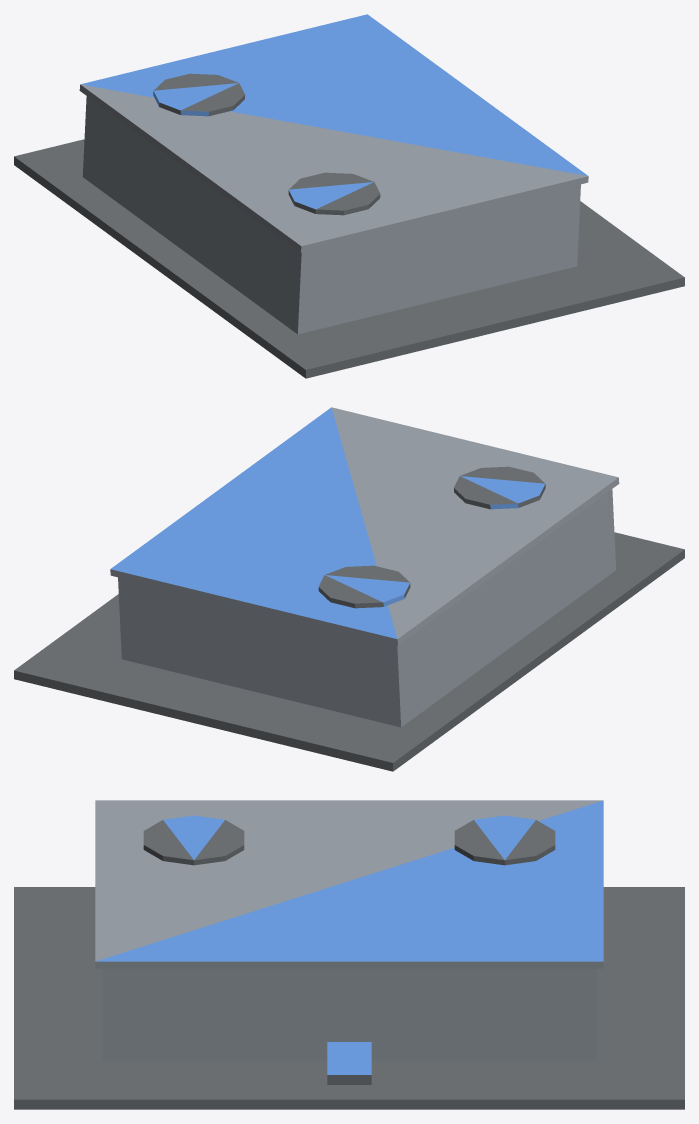
The model's file is veyran_refinery_heavily_damaged.glb.
The picture shows the model from 3 angles, top to bottom: view 1: azimuth 30°, elevation 25°; view 2: azimuth 150°, elevation 25°; view 3: azimuth 270°, elevation 25°; orthographic projection. The views are drawn at different scales.
Visible parts, largest first — view 1: hull; view 2: hull; view 3: hull, belt.
Part boxes in pixels (x1=…): hull: x1=14, y1=14, x2=684, y2=378; hull: x1=14, y1=407, x2=684, y2=771; hull: x1=14, y1=800, x2=684, y2=1109; belt: x1=327, y1=1042, x2=371, y2=1084.
Size of the model in its own units: 11.4 by 2.98 by 15.2.
